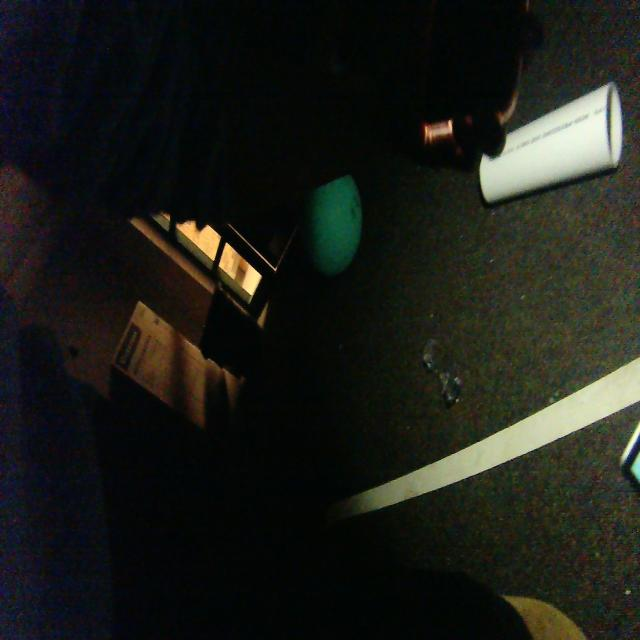algae: (298, 172, 365, 280)
coral: (477, 81, 628, 212)
